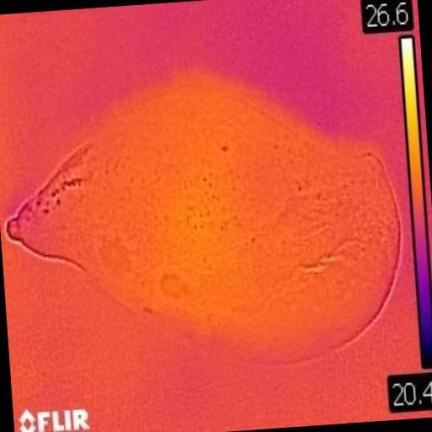mango: (8, 73, 400, 361)
